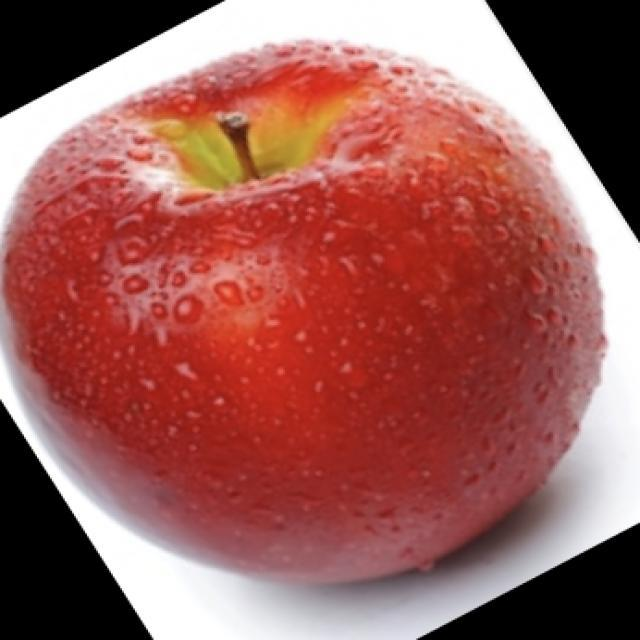Fresh Apple: (5, 43, 604, 583)
